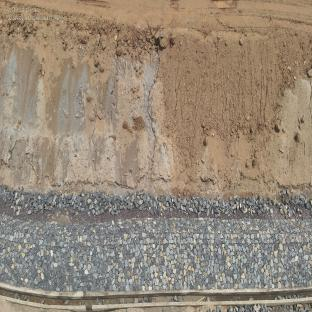rock_toe: (0, 219, 312, 291), (0, 178, 311, 220)
toe_drain: (0, 282, 312, 311)
